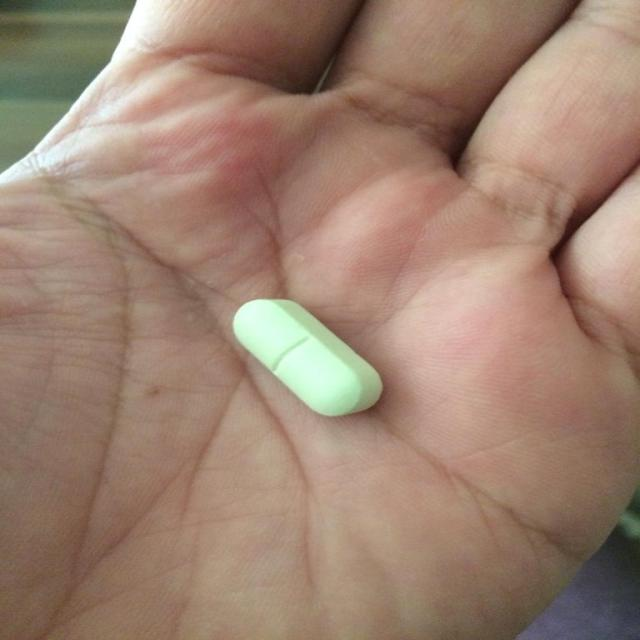pills: (227, 284, 391, 426)
